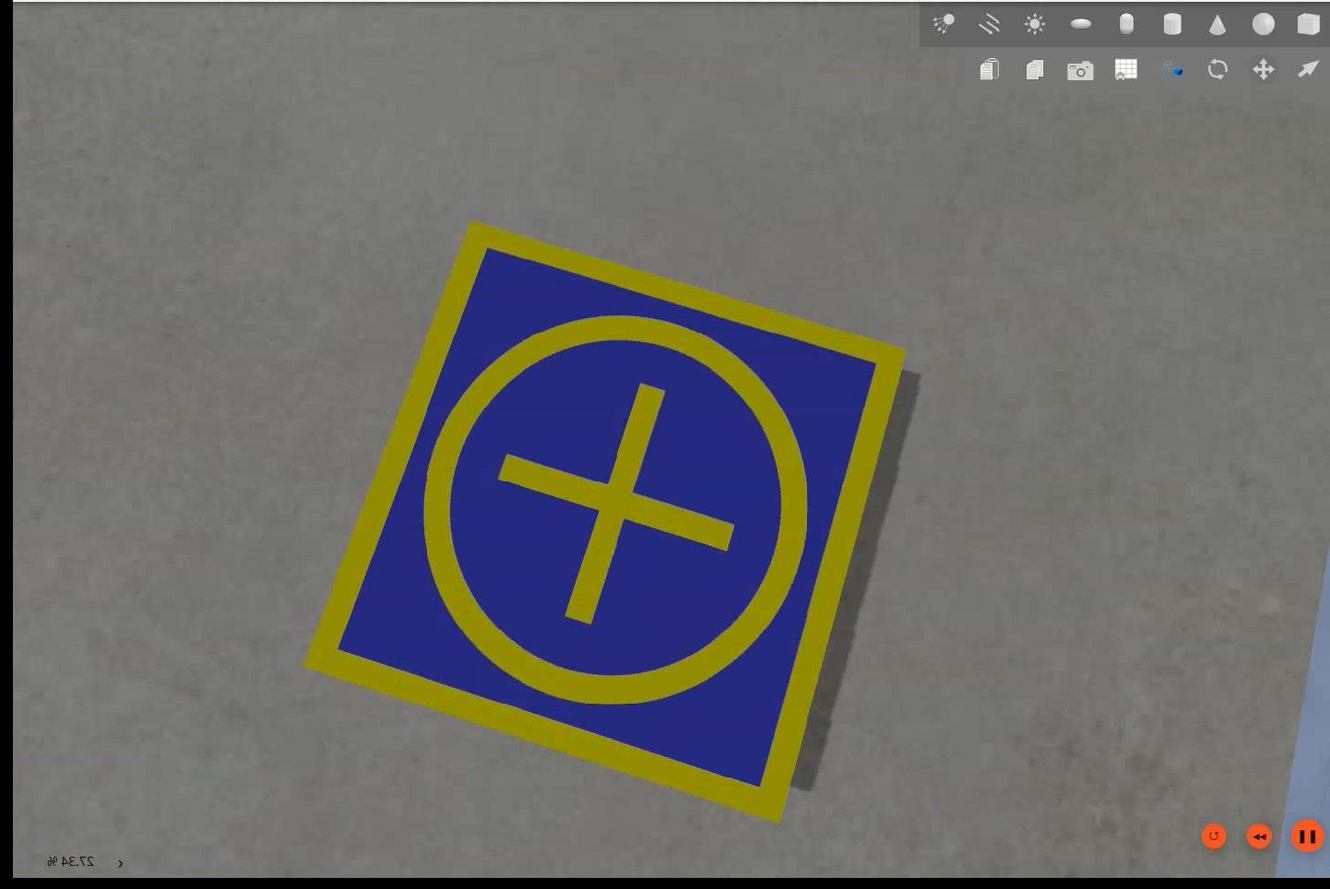small_base: (297, 219, 907, 831)
